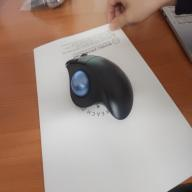mouse: (66, 54, 133, 120)
